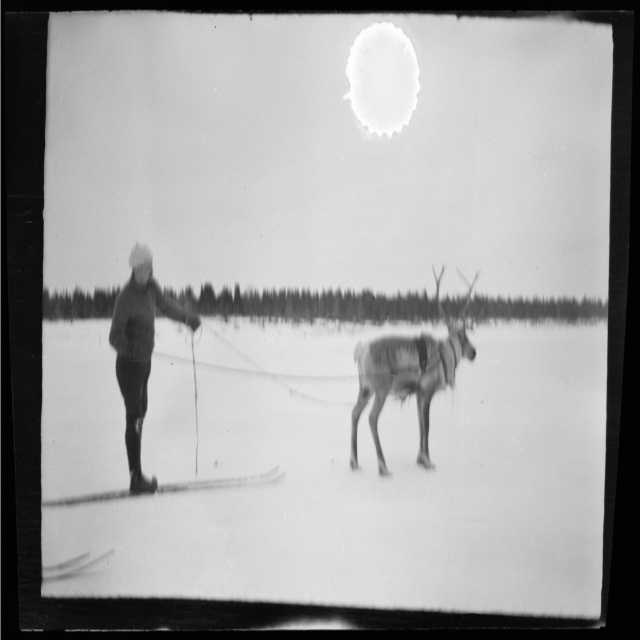Deer: (351, 268, 478, 477)
